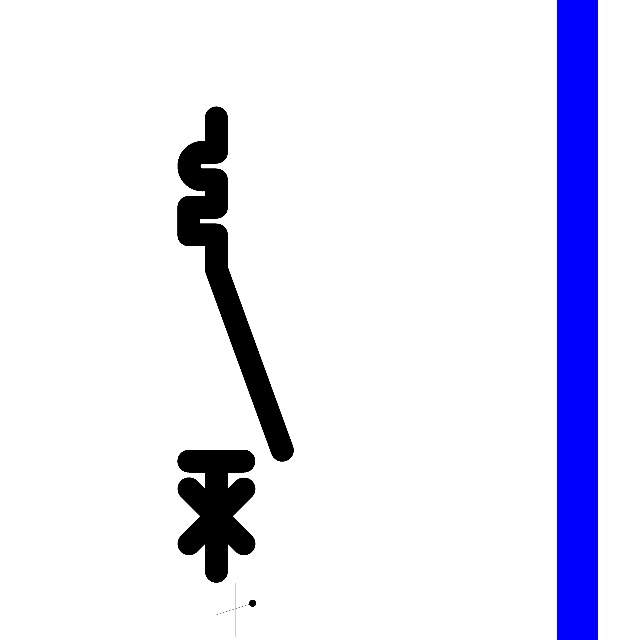interruptor_termomagnetico: (177, 106, 293, 583)
